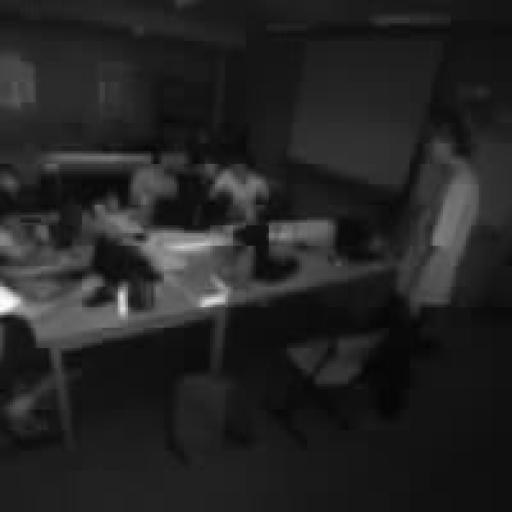human: (0, 172, 92, 445), (397, 116, 481, 322), (210, 154, 268, 222), (128, 154, 179, 225)
